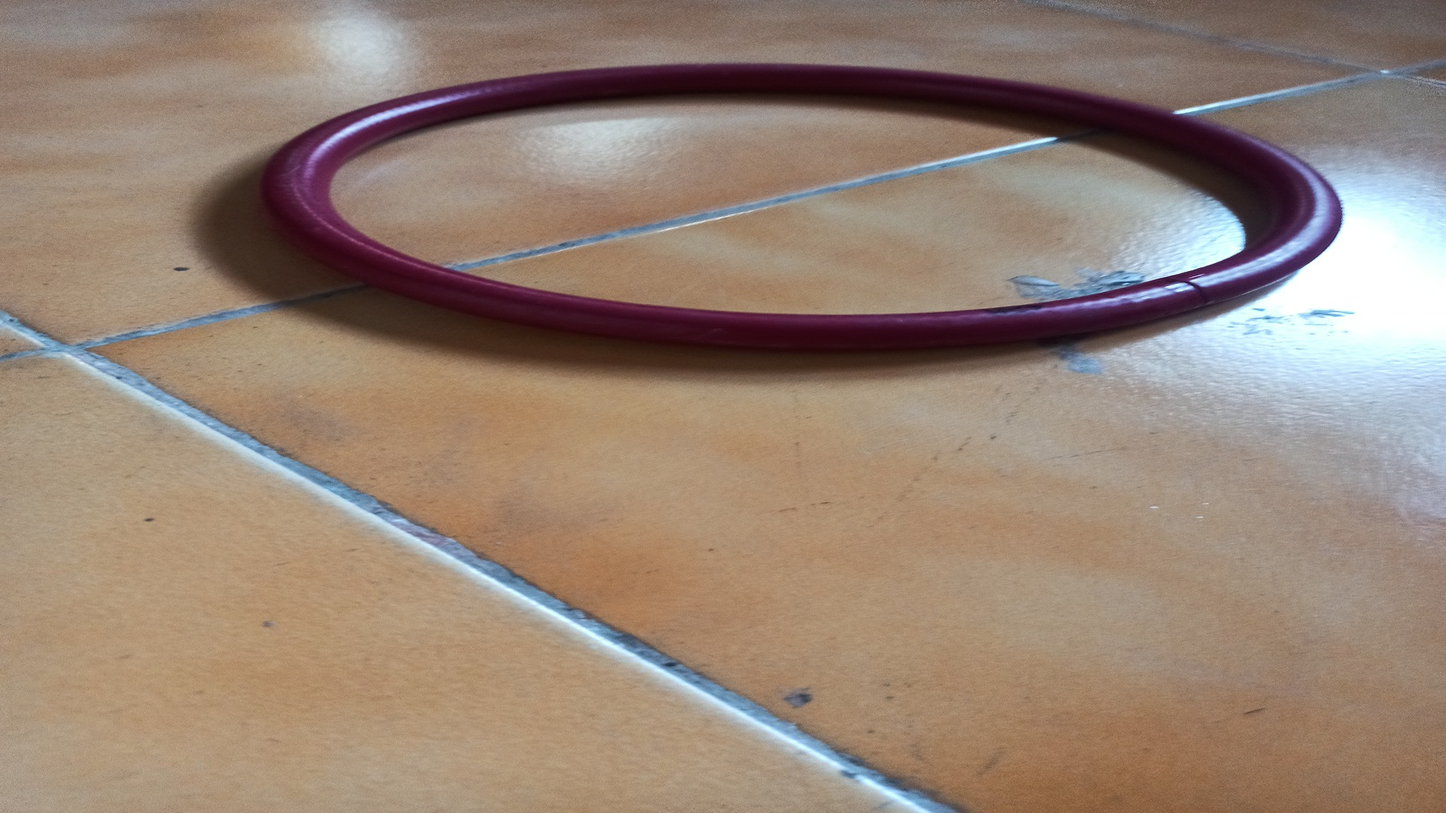Red ring: (255, 61, 1341, 345)
